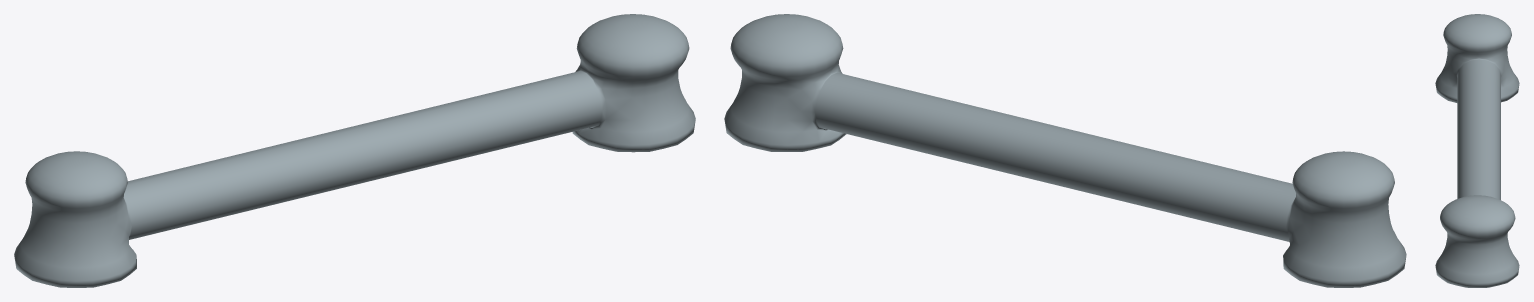
Rendered from duck_towelRack.fbx.
3 views of the same model, side by side, from view 1: azimuth 30°, elevation 25°; view 2: azimuth 150°, elevation 25°; view 3: azimuth 270°, elevation 25° (orthographic). The views are drawn at different scales.
Parts seen in each view (by area): view 1: m_duck_towelRack_high_r:towelRack:polySurface3; view 2: m_duck_towelRack_high_r:towelRack:polySurface3; view 3: m_duck_towelRack_high_r:towelRack:polySurface3.
Boxes of the visible parts, x1=… form: m_duck_towelRack_high_r:towelRack:polySurface3: x1=14, y1=14, x2=695, y2=287; m_duck_towelRack_high_r:towelRack:polySurface3: x1=724, y1=14, x2=1406, y2=287; m_duck_towelRack_high_r:towelRack:polySurface3: x1=1435, y1=14, x2=1519, y2=287.
Bounding box in the file's own units: 9.94 × 1.5 × 1.62.
